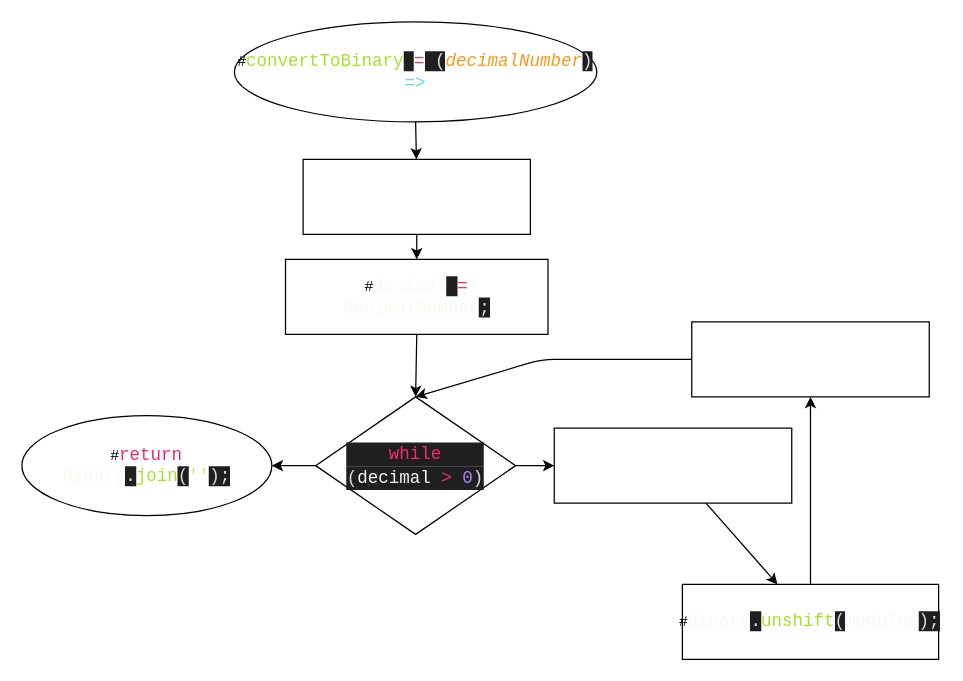
This 963x681 diagram has some shape labels left out. Here are the shapes that lost their labels. From the top down, the centre of each, then its label:
the point at 416,196: # binary = new Array ();
the point at 809,359: # decimal = Math . floor ( decimal / 2 );
the point at 672,465: # modulus = decimal % 2 ;
